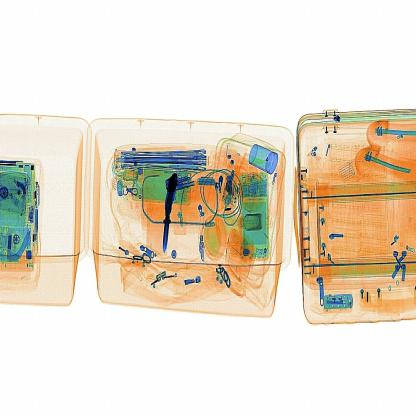gun: (154, 159, 184, 247)
